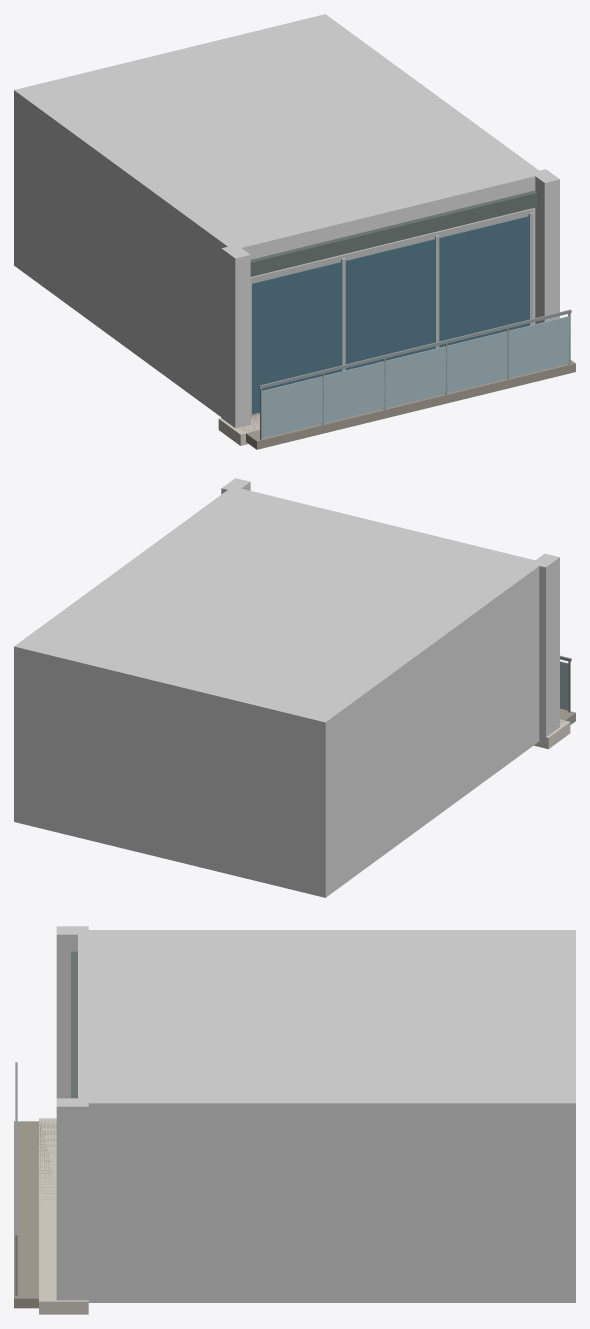
File: lau_kinh_lua_60.glb
3 renders of one model, top to bottom at view 1: azimuth 30°, elevation 25°; view 2: azimuth 150°, elevation 25°; view 3: azimuth 270°, elevation 25°, orthographic. The views are drawn at different scales.
Parts seen in each view (by area): view 1: lau_kinh_lua_60; view 2: lau_kinh_lua_60; view 3: lau_kinh_lua_60.
Boxes of the visible parts, x1,y1,x2,y2 form: lau_kinh_lua_60: (14,14,575,449); lau_kinh_lua_60: (14,478,575,897); lau_kinh_lua_60: (14,926,575,1314).
Bounding box in the file's own units: 6.1 × 3.2 × 7.9.
